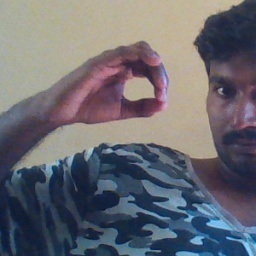O: (54, 38, 173, 131)
